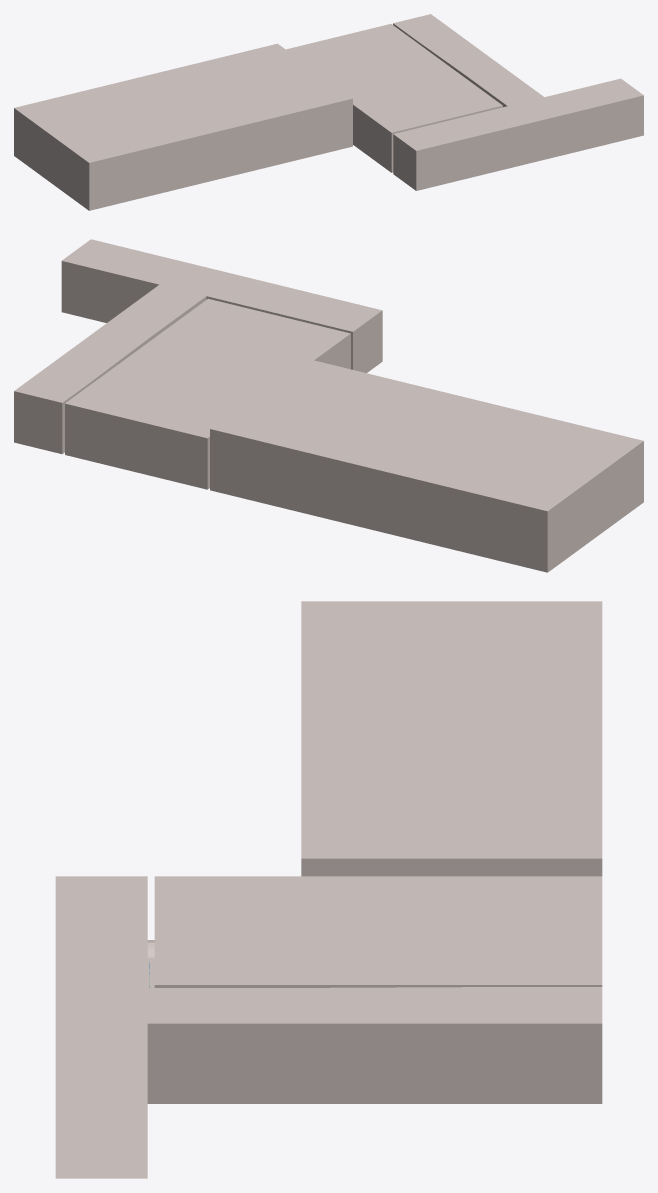
File: Boss Level 5.fbx
3 renders of one model, top to bottom at view 1: azimuth 30°, elevation 25°; view 2: azimuth 150°, elevation 25°; view 3: azimuth 270°, elevation 25°, orthographic. The views are drawn at different scales.
Visible parts, largest first — view 1: Boss Level 5; view 2: Boss Level 5; view 3: Boss Level 5.
Part boxes in pixels (box(x1,y1,x2,y2)): Boss Level 5: box(14, 14, 643, 210); Boss Level 5: box(14, 239, 643, 572); Boss Level 5: box(55, 601, 602, 1178).
Bounding box in the file's own units: 5192 × 482 × 2490.
